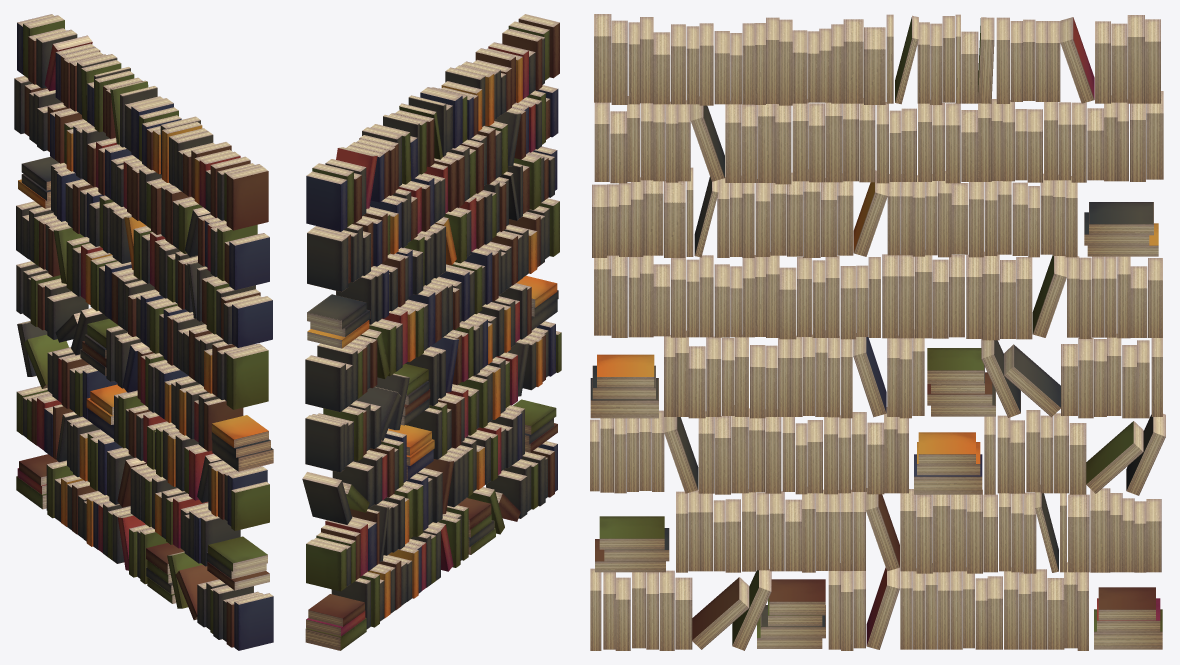
The model's file is Books_BookcaseLarge_Combined.fbx.
3 renders of one model, left to right at view 1: azimuth 30°, elevation 25°; view 2: azimuth 150°, elevation 25°; view 3: azimuth 270°, elevation 25°, orthographic. The views are drawn at different scales.
Visible parts, largest first — view 1: Book_Low; view 2: Book_Low; view 3: Book_Low.
Boxes of the visible parts, box(x1,y1,x2,y2) form: Book_Low: box(14, 14, 273, 650); Book_Low: box(302, 14, 561, 650); Book_Low: box(590, 14, 1165, 650).
Size of the model in its own units: 104 by 1217 by 1035.
